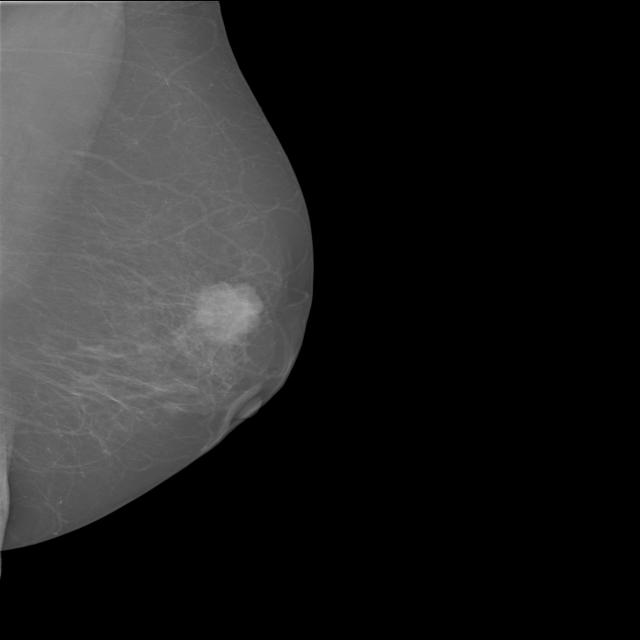Mass_1: (167, 254, 289, 368)
